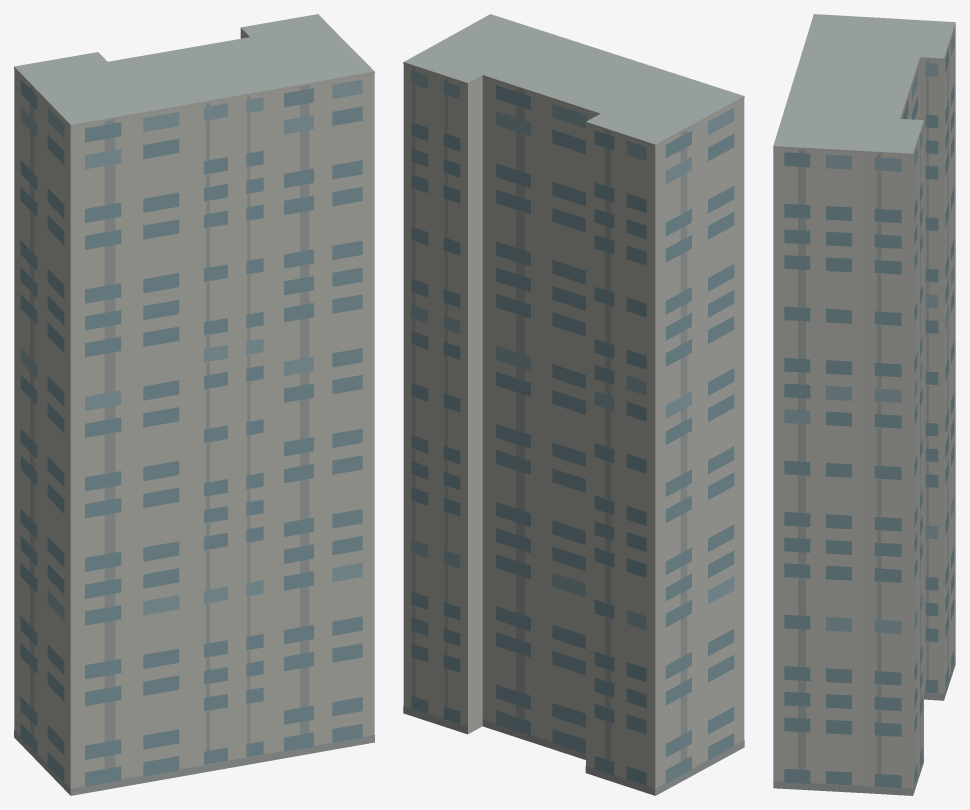
The model's file is residential-835be4f7-0ba5-4fb7-b944-dfef6d4c40c7.glb.
3 views of the same model, side by side, from view 1: azimuth 30°, elevation 25°; view 2: azimuth 150°, elevation 25°; view 3: azimuth 270°, elevation 25° (orthographic). The views are drawn at different scales.
Visible parts, largest first — view 1: residential-835be4f7-0ba5-4fb7-b944-dfef6d4c40c7.tmp; view 2: residential-835be4f7-0ba5-4fb7-b944-dfef6d4c40c7.tmp; view 3: residential-835be4f7-0ba5-4fb7-b944-dfef6d4c40c7.tmp.
Part boxes in pixels (x1,y1,x2,y2): residential-835be4f7-0ba5-4fb7-b944-dfef6d4c40c7.tmp: (14,14,374,795); residential-835be4f7-0ba5-4fb7-b944-dfef6d4c40c7.tmp: (403,14,744,795); residential-835be4f7-0ba5-4fb7-b944-dfef6d4c40c7.tmp: (773,14,955,795).
Bounding box in the file's own units: 35.61 × 76.25 × 19.65.
